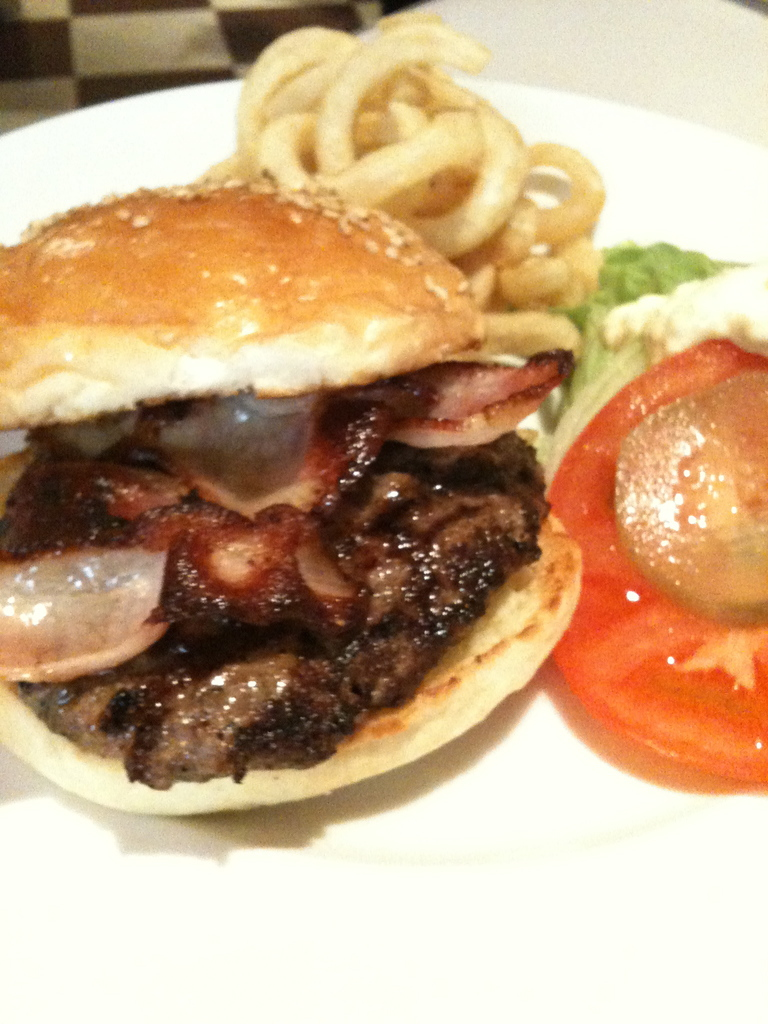Hamburger: (0, 170, 591, 819)
